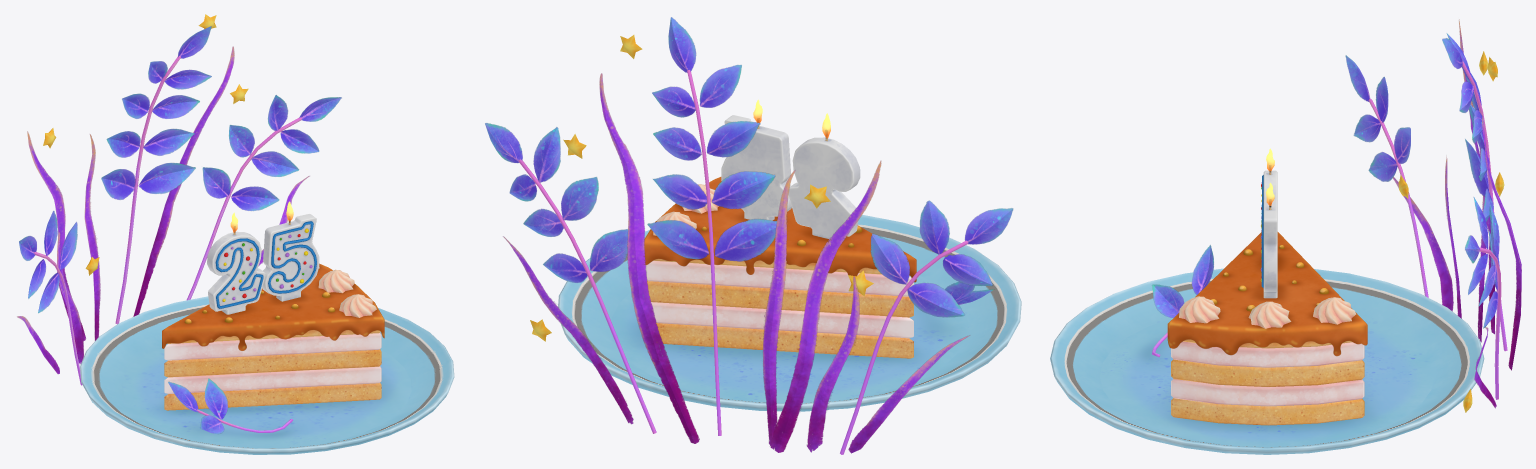
Rendered from cake.glb.
The picture shows the model from 3 angles, left to right: view 1: azimuth 30°, elevation 25°; view 2: azimuth 150°, elevation 25°; view 3: azimuth 270°, elevation 25°; orthographic projection. The views are drawn at different scales.
Parts seen in each view (by area): view 1: plate, Cylinder.005, Cylinder, Cylinder.003, Plane, 2_Candles_0, Plane.026, Plane.027, Plane.031, BezierCurve.003, Plane.024, BezierCircle.001 (+22 smaller); view 2: plate, Cylinder, Cylinder.003, Cylinder.005, Plane.026, 2_Candles_0, Plane.024, Plane, Plane.027, Plane.025, Plane.030, Plane.028 (+24 smaller); view 3: plate, Cylinder.005, Cylinder, Cylinder.003, Plane, Plane.026, Plane.029, Cylinder.016, Cylinder.007, Cylinder.004, Plane.015, BezierCurve (+9 smaller).
Part boxes in pixels (box(x1,y1,x2,y2)): plate: box(80, 296, 454, 454); Cylinder.005: box(162, 263, 384, 350); Cylinder: box(164, 330, 381, 410); Cylinder.003: box(164, 332, 381, 393); Plane: box(262, 214, 319, 301); 2_Candles_0: box(207, 231, 265, 314); Plane.026: box(133, 46, 234, 316); Plane.027: box(84, 134, 100, 340); Plane.031: box(138, 163, 195, 193); BezierCurve.003: box(115, 55, 180, 324); Plane.024: box(27, 131, 85, 341); BezierCircle.001: box(268, 221, 316, 293); plate: box(558, 214, 1021, 411); Cylinder: box(647, 258, 913, 358); Cylinder.003: box(645, 260, 913, 338); Cylinder.005: box(644, 177, 916, 282); Plane.026: box(599, 73, 699, 443); 2_Candles_0: box(788, 137, 860, 239); Plane.024: box(770, 160, 881, 452); Plane: box(721, 115, 791, 220); Plane.027: box(763, 170, 795, 444); Plane.025: box(806, 276, 859, 452); Plane.030: box(714, 219, 776, 261); Plane.028: box(503, 236, 633, 424); plate: box(1050, 268, 1484, 454); Cylinder.005: box(1167, 232, 1367, 356); Cylinder: box(1171, 339, 1364, 425); Cylinder.003: box(1171, 341, 1364, 406); Plane: box(1263, 199, 1277, 298); Plane.026: box(1482, 111, 1521, 370); Plane.029: box(1393, 177, 1453, 311); Cylinder.016: box(1313, 297, 1356, 324); Cylinder.007: box(1248, 301, 1291, 328); Cylinder.004: box(1179, 296, 1220, 323); Plane.015: box(1152, 284, 1184, 317); BezierCurve: box(1368, 98, 1428, 297).
Size of the model in its own units: 5.75 by 4.72 by 5.37.
4 materials, 4 textured.
